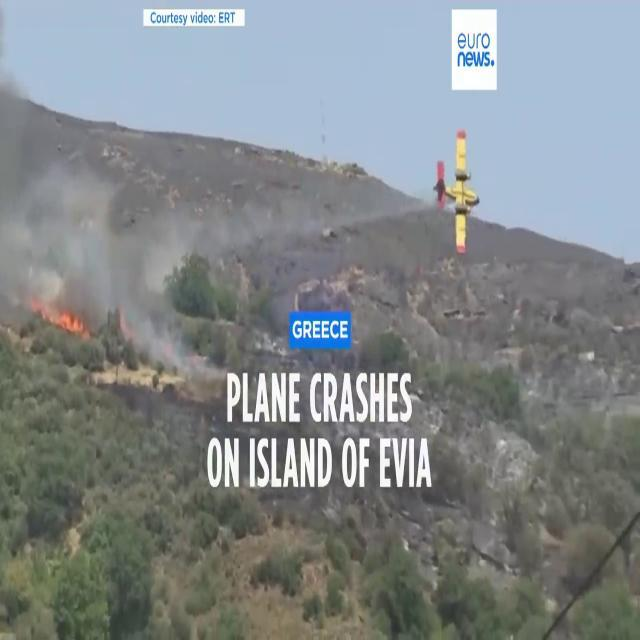Fire: (40, 302, 90, 342)
Smoke: (0, 79, 216, 375)
